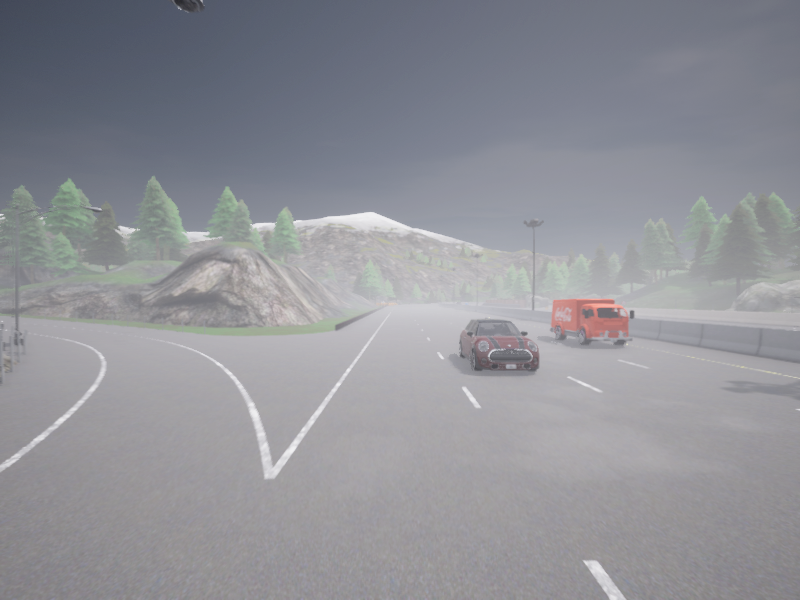vehicle: (459, 317, 539, 370), (550, 299, 633, 345), (457, 301, 461, 304), (465, 302, 467, 304)
